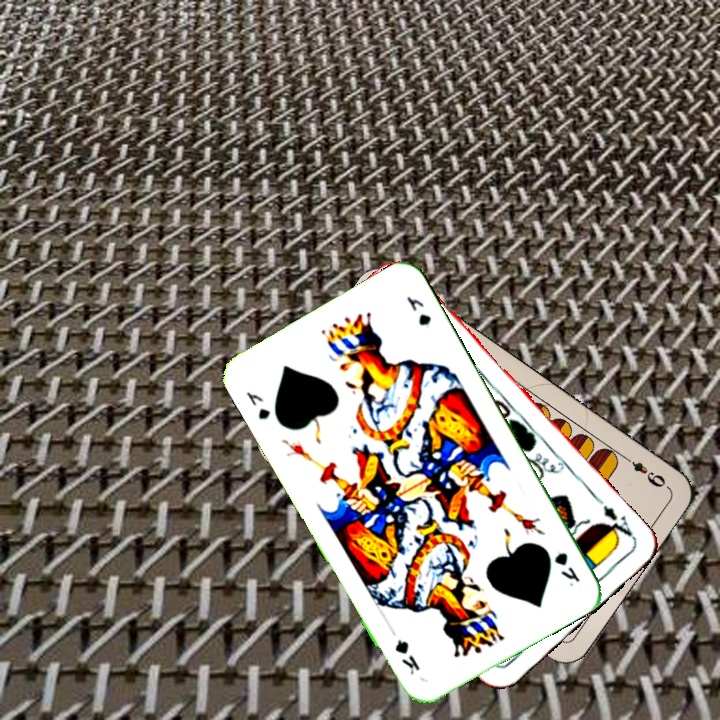E9: (619, 451, 668, 490)
EA: (592, 493, 637, 544)
GK: (550, 548, 583, 589), (241, 387, 273, 422)
